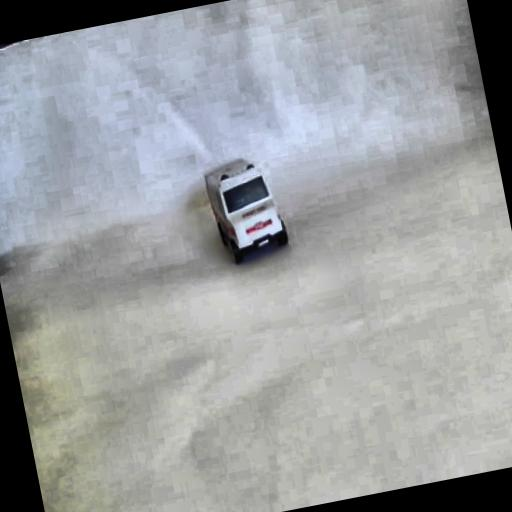ambulance: (200, 152, 290, 266)
